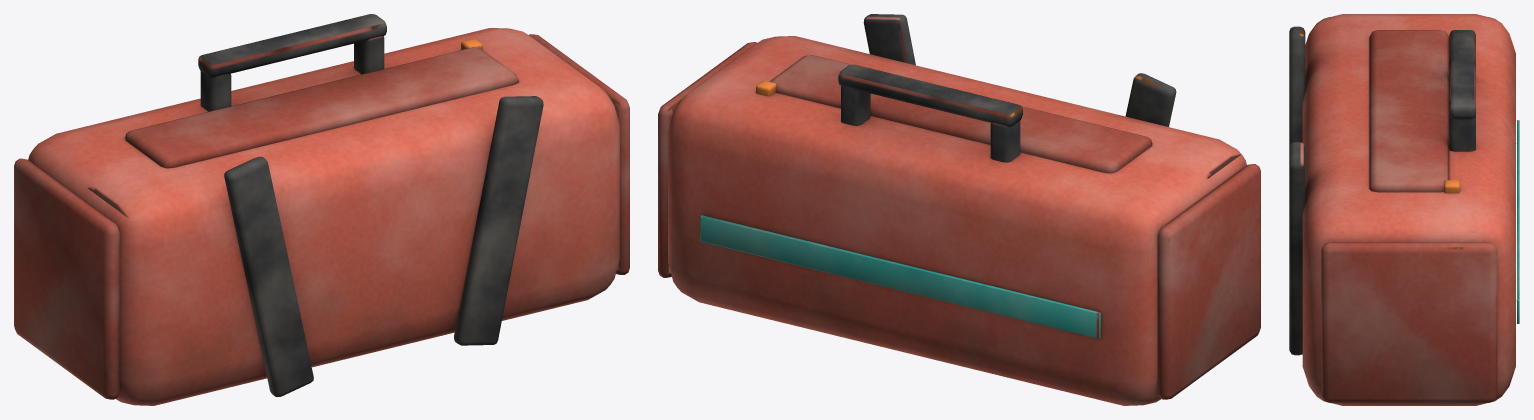
File: big_duffel.fbx
3 renders of one model, left to right at view 1: azimuth 30°, elevation 25°; view 2: azimuth 150°, elevation 25°; view 3: azimuth 270°, elevation 25°, orthographic. The views are drawn at different scales.
Visible parts, largest first — view 1: Body, Flap; view 2: Body, Flap; view 3: Body, Flap.
Part boxes in pixels (x1,y1,x2,y2): Body: (14,14,629,405); Flap: (125,39,518,168); Body: (658,14,1260,405); Flap: (756,55,1152,173); Body: (1289,14,1519,405); Flap: (1369,30,1459,193).
Bounding box in the file's own units: 2.06 × 0.9926 × 0.864.
1 material, 1 textured.
